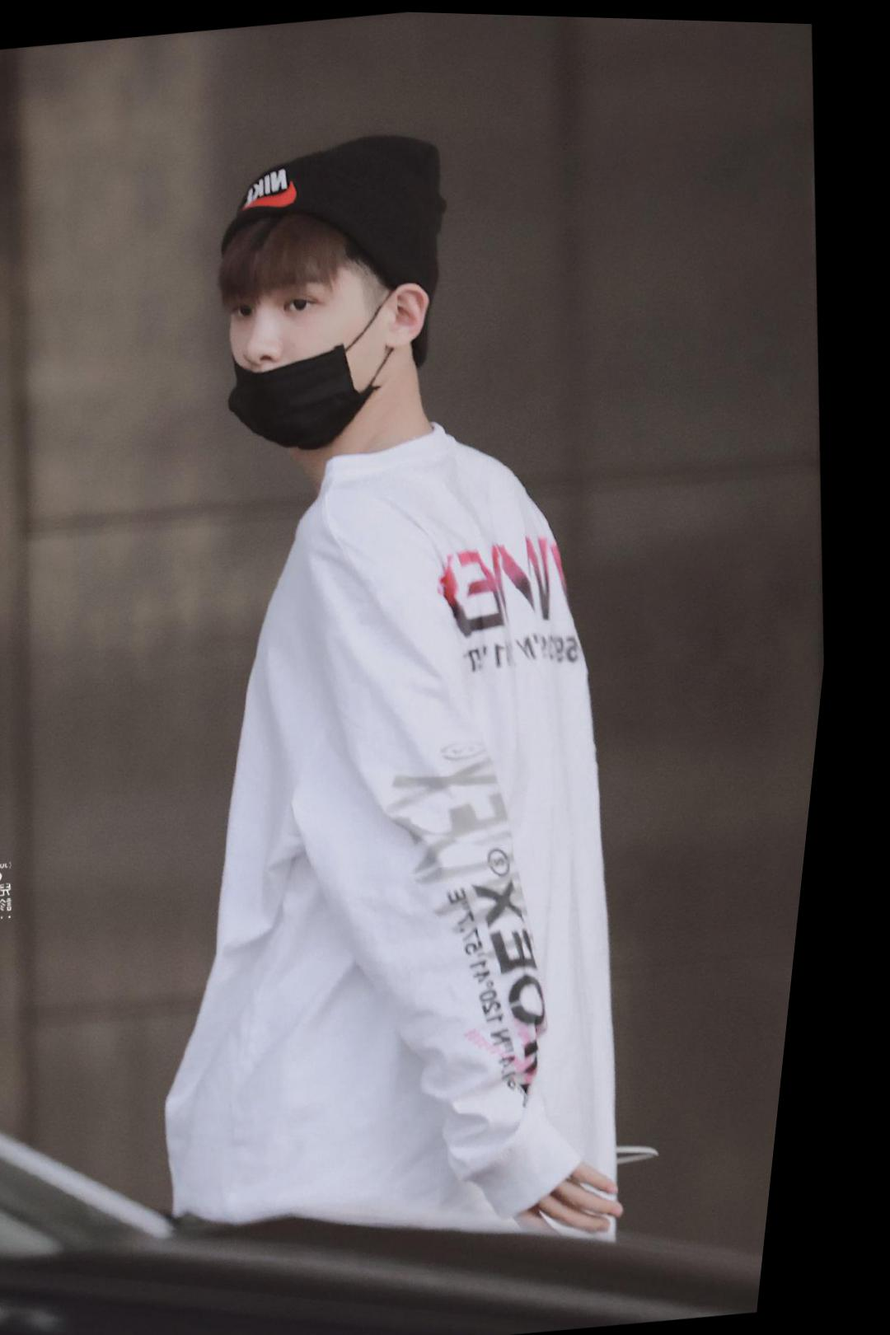WRONG: (218, 233, 400, 457)
